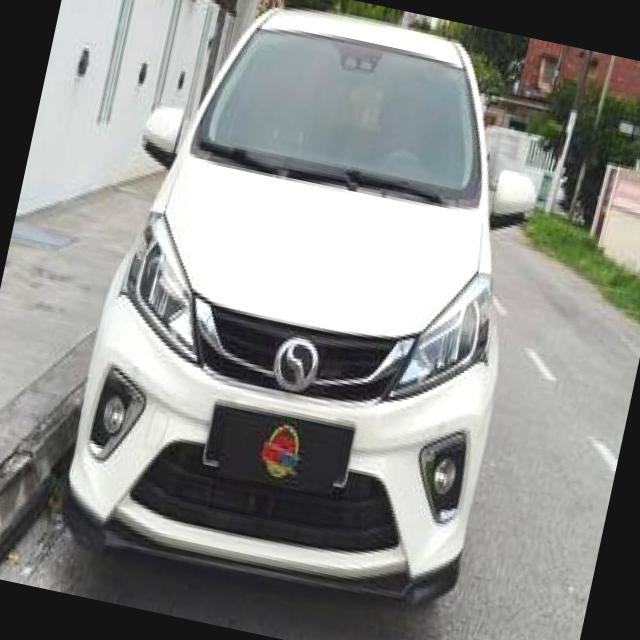PeroduaMyvi: (50, 0, 570, 624)
